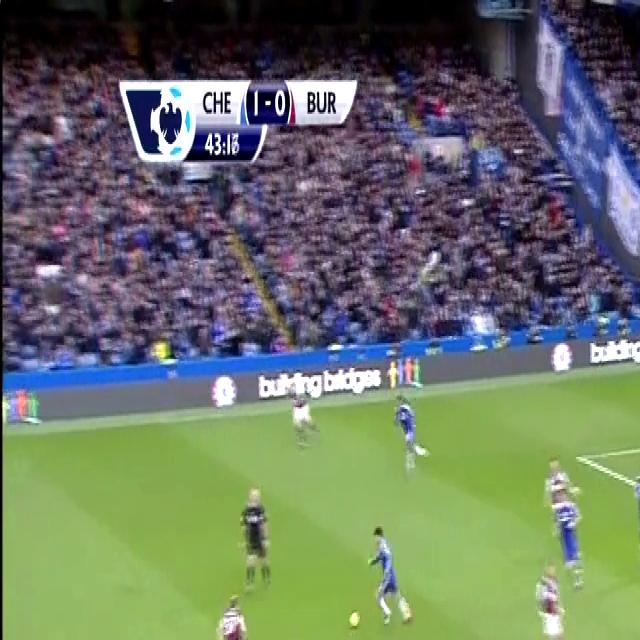ball: (342, 603, 362, 635), (348, 608, 366, 633)
referee: (239, 477, 278, 602)
soccer-player: (362, 518, 418, 632), (547, 452, 590, 590), (526, 553, 576, 640), (390, 384, 434, 481), (288, 375, 321, 457), (213, 583, 260, 640), (623, 448, 640, 585)
